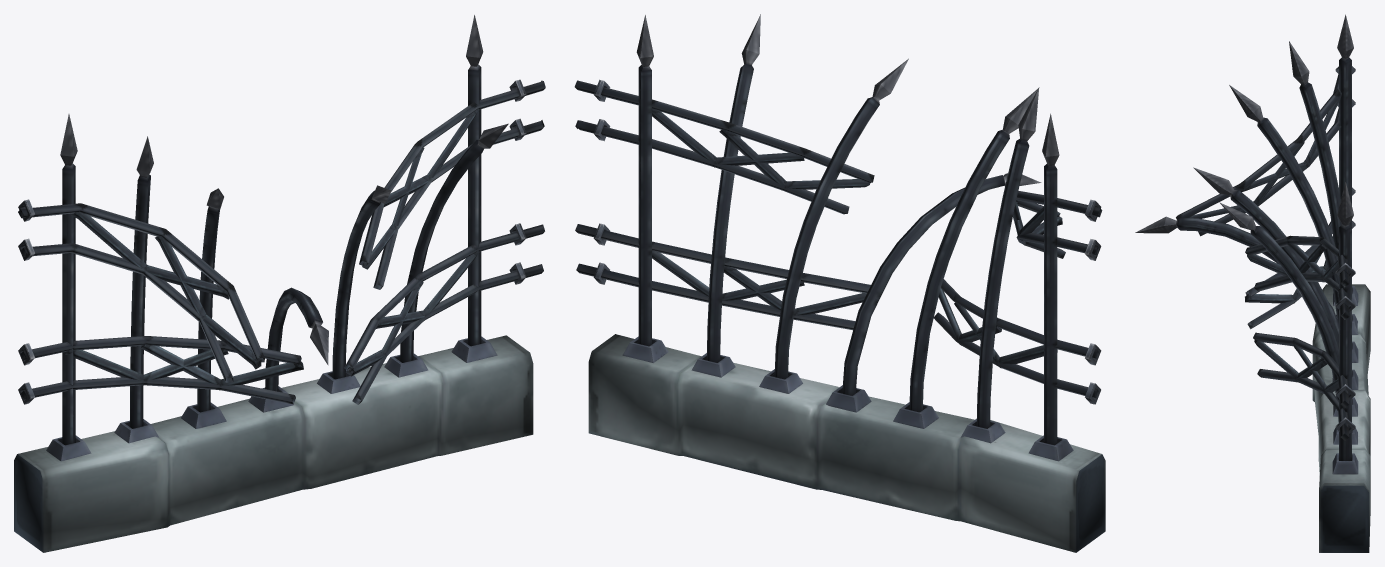
File: env_cem_verja_02.FBX
3 views of the same model, side by side, from view 1: azimuth 30°, elevation 25°; view 2: azimuth 150°, elevation 25°; view 3: azimuth 270°, elevation 25° (orthographic). The views are drawn at different scales.
Visible parts, largest first — view 1: env_cem_verja_02; view 2: env_cem_verja_02; view 3: env_cem_verja_02.
Boxes of the visible parts, box(x1,y1,x2,y2) form: env_cem_verja_02: box(14, 15, 545, 552); env_cem_verja_02: box(574, 14, 1105, 552); env_cem_verja_02: box(1135, 14, 1370, 552).
Size of the model in its own units: 638 by 488 by 295.
